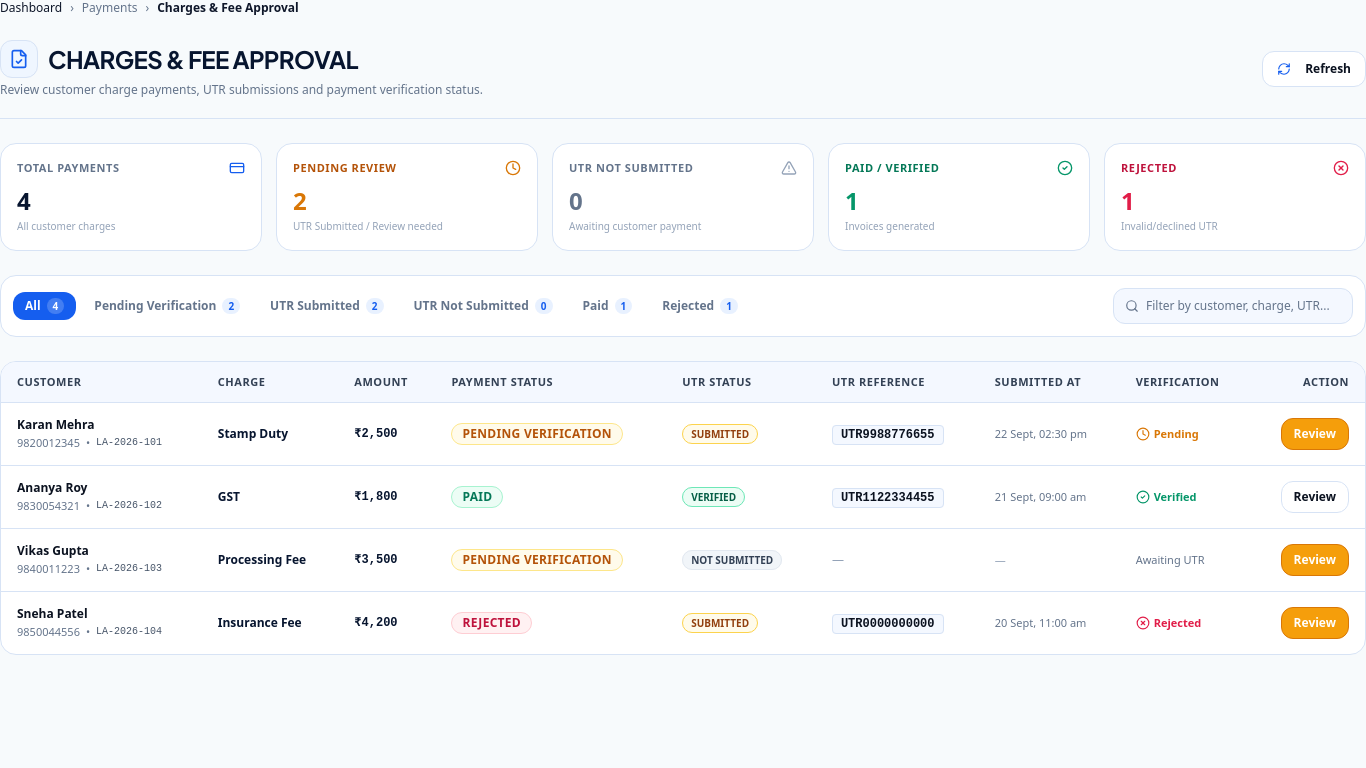
Admin Charges & Fee Approval Workflow › TEST 5: Rule 11 gating - Verify Payment button is disabled if UTR is missing
This screenshot has width=1366, height=768.
Expected: the text "Vikas Gupta" is shown, [17, 542, 89, 559]
// Click Review for Vikas (has index 2)
Click the button "Review" in the row of "Vikas Gupta": click(1315, 560) [1281, 544, 1349, 576]
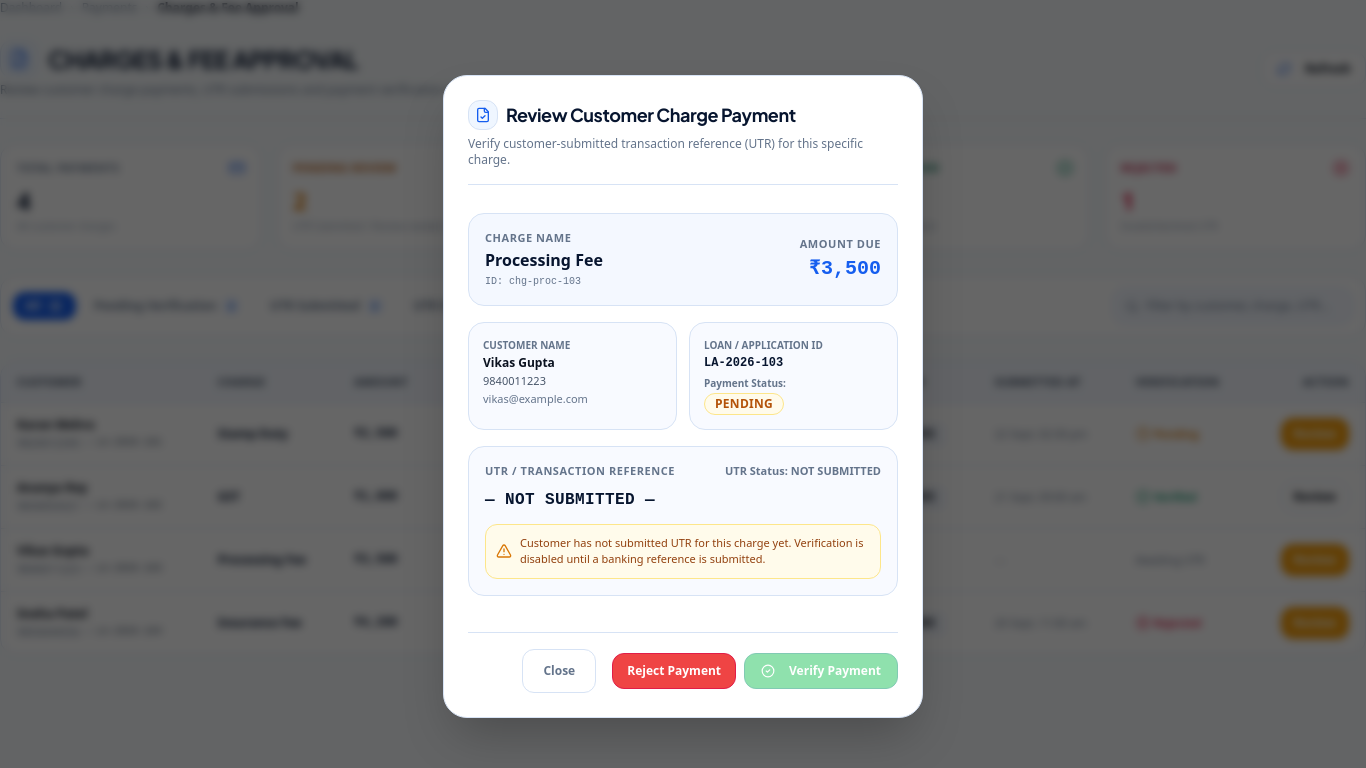
Expected: the text "Review Customer Charge Payment" is shown, [506, 100, 796, 128]
Expected: the text "Customer has not submitted UTR for this charge yet" is shown, [520, 534, 864, 566]
Expected: the button "Verify Payment" is disabled, [744, 652, 898, 688]
